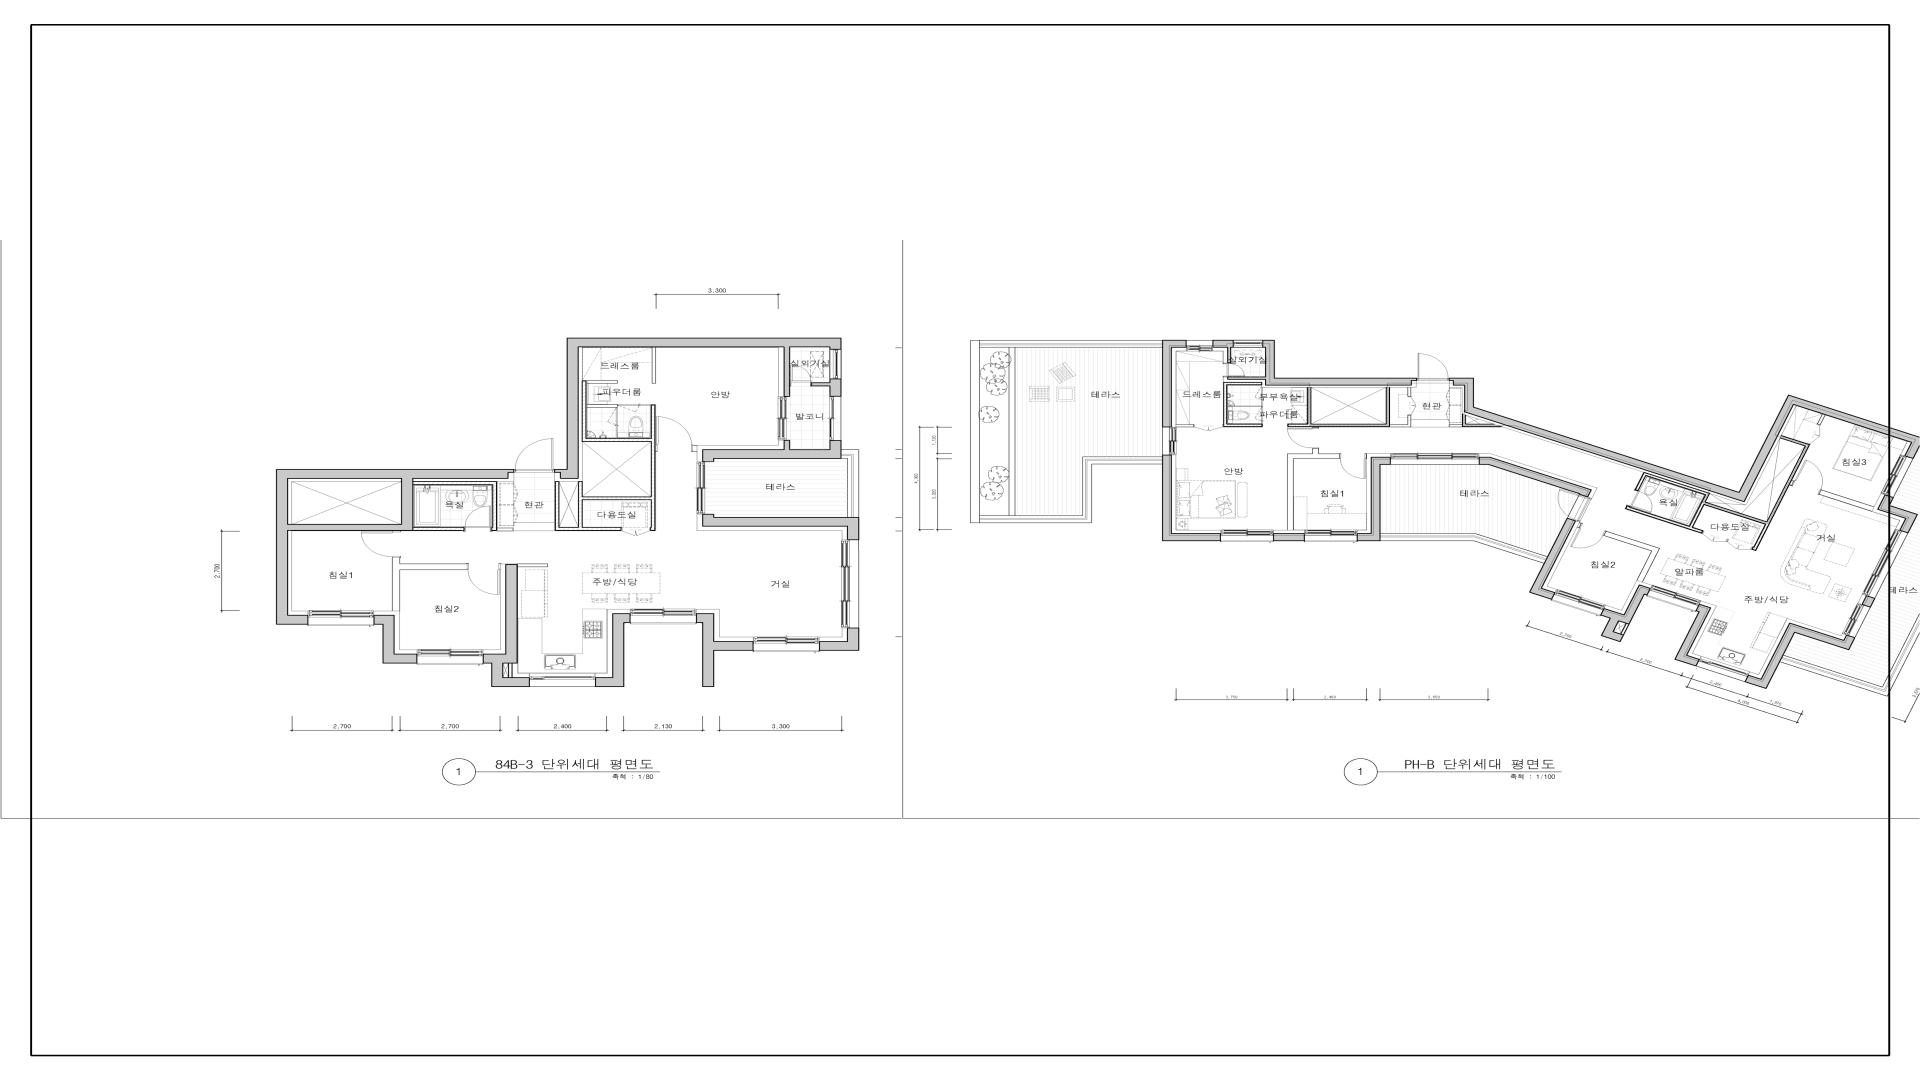door: (1547, 488, 1592, 522), (1792, 460, 1832, 495), (514, 439, 555, 473), (656, 416, 693, 452), (1568, 523, 1606, 554), (468, 563, 500, 595), (361, 531, 400, 557), (1417, 353, 1449, 381), (1626, 490, 1658, 513), (1287, 427, 1319, 449), (465, 506, 491, 532), (1340, 454, 1367, 479), (790, 365, 811, 387), (1700, 531, 1728, 546), (1725, 539, 1753, 553), (1223, 363, 1245, 377), (622, 528, 650, 536), (1194, 424, 1223, 431), (618, 404, 640, 412), (608, 408, 617, 426), (1255, 385, 1263, 400), (1255, 407, 1263, 421)
wall: (1449, 378, 1920, 502), (554, 338, 842, 479), (276, 469, 514, 625), (1625, 435, 1810, 551), (555, 381, 656, 531), (1227, 340, 1417, 386), (1745, 623, 1855, 689), (288, 479, 414, 531), (483, 564, 530, 687), (1162, 455, 1221, 541), (414, 481, 514, 531), (1287, 387, 1411, 427), (1479, 457, 1592, 497), (1287, 449, 1340, 530), (696, 613, 754, 687), (702, 514, 860, 540), (392, 557, 467, 611), (1529, 518, 1576, 600), (702, 440, 842, 462), (1604, 531, 1660, 582), (1357, 457, 1391, 541), (1601, 585, 1651, 642), (595, 613, 631, 687), (1675, 604, 1711, 667), (1162, 340, 1187, 427), (374, 615, 417, 664), (1223, 382, 1263, 427), (1878, 495, 1918, 533), (1819, 490, 1874, 512), (819, 628, 860, 651), (1449, 413, 1504, 427), (811, 379, 842, 397), (1213, 340, 1234, 363), (1273, 533, 1305, 541), (1228, 400, 1263, 407), (414, 527, 465, 531), (1862, 596, 1875, 608), (652, 348, 656, 384), (587, 404, 618, 408), (587, 380, 618, 384), (1817, 414, 1826, 425), (518, 564, 548, 567), (1621, 624, 1629, 635), (508, 664, 513, 677), (1176, 424, 1194, 427), (1408, 387, 1411, 397), (693, 445, 697, 452), (640, 404, 650, 406), (616, 426, 617, 438), (1262, 421, 1263, 424)
window: (1862, 529, 1908, 598), (841, 540, 859, 628), (1551, 589, 1606, 616), (1647, 585, 1701, 612), (1697, 656, 1750, 682), (1881, 455, 1913, 497), (842, 450, 859, 517), (1842, 603, 1871, 638), (309, 611, 374, 626), (418, 650, 483, 665), (631, 609, 696, 624), (754, 637, 819, 652), (1391, 454, 1479, 465), (697, 462, 715, 514), (530, 673, 595, 687), (1221, 530, 1273, 542), (1305, 530, 1357, 542), (830, 397, 842, 440), (778, 397, 790, 440), (1162, 428, 1176, 455), (830, 350, 842, 379), (1187, 340, 1213, 351), (1234, 340, 1262, 348)
